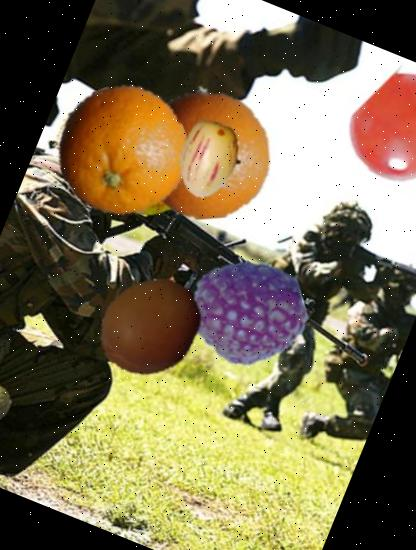Apricot: (82, 258, 219, 396)
Melon: (0, 358, 22, 452)
Orange: (119, 66, 292, 239), (37, 64, 208, 236)
Pepino: (158, 107, 262, 210)
Pomelo: (102, 132, 202, 230)
Raspberry: (177, 241, 320, 385)
Redcurrant: (335, 60, 416, 207)
